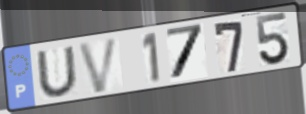1: (141, 30, 162, 84)
5: (254, 10, 291, 67)
7: (164, 22, 206, 83), (212, 20, 245, 74)
U: (34, 44, 81, 99)
V: (75, 35, 121, 96)
